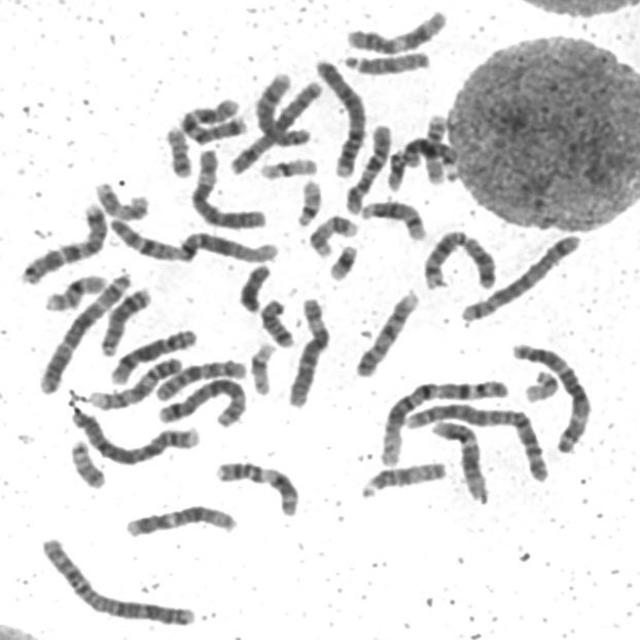A1: (377, 373, 512, 468), (103, 211, 282, 267)
A2: (35, 531, 200, 629), (397, 397, 555, 483)
A3: (34, 265, 136, 395), (507, 336, 595, 454)
B4: (65, 402, 203, 467), (310, 53, 368, 179)
B5: (456, 227, 585, 324), (151, 372, 250, 429)
C10: (340, 118, 394, 216), (151, 352, 250, 402)
C11: (211, 455, 302, 518), (342, 4, 451, 55)
C12: (426, 413, 492, 503), (120, 499, 241, 540)
C6: (186, 142, 270, 230), (283, 292, 334, 409)
C7: (15, 197, 111, 286), (175, 90, 248, 146)
C8: (105, 322, 201, 387), (251, 67, 314, 149)
C9: (351, 285, 423, 378), (86, 351, 186, 412)
D13: (96, 282, 155, 358), (398, 132, 461, 181)
D14: (356, 195, 429, 242), (417, 232, 468, 288)
D15: (355, 455, 450, 500), (340, 44, 433, 76)
E16: (40, 269, 110, 313), (418, 108, 449, 185)
E17: (89, 175, 152, 222), (305, 210, 361, 259)
E18: (255, 294, 298, 348), (460, 238, 496, 288)
F19: (246, 337, 279, 397), (254, 152, 320, 181)
F20: (65, 434, 109, 490), (160, 119, 196, 178)
G21: (324, 238, 361, 283), (382, 145, 408, 192)
G22: (291, 174, 325, 228), (518, 364, 562, 404)
X: (226, 74, 326, 175)
Y: (233, 259, 274, 314)
